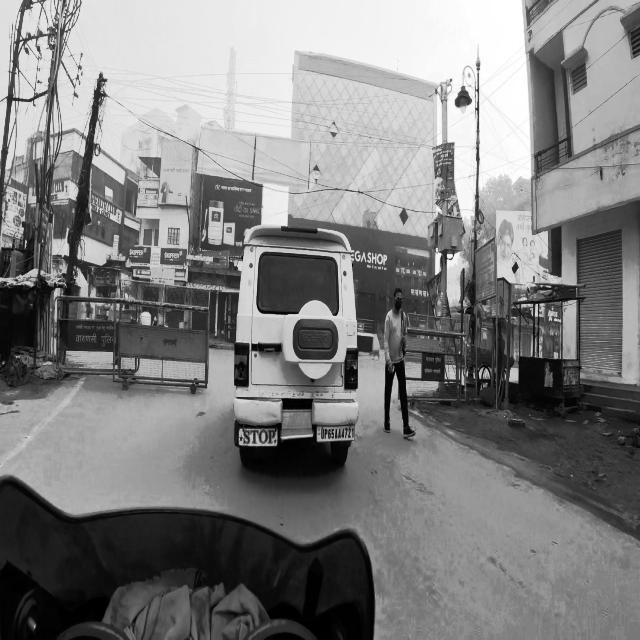Car: (232, 195, 371, 486)
